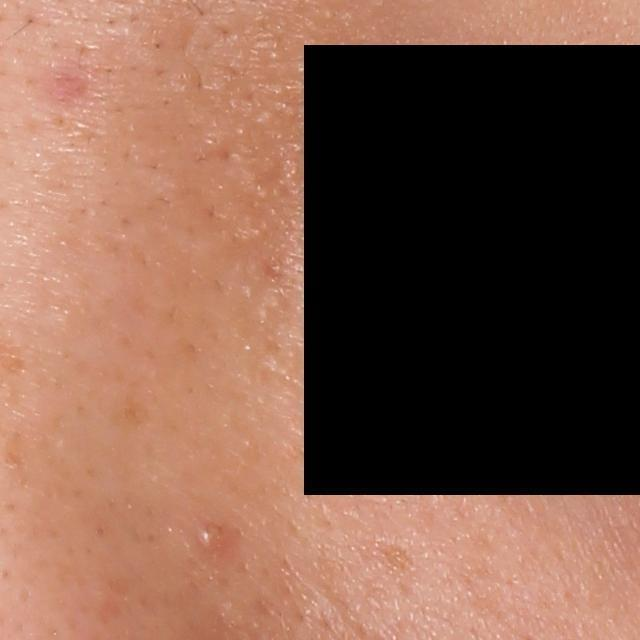melasma: (369, 536, 417, 577)
